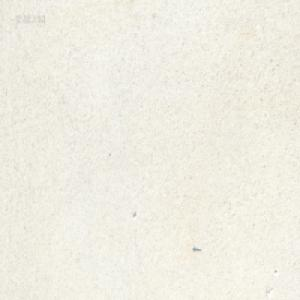Nail: (192, 245, 201, 252)
